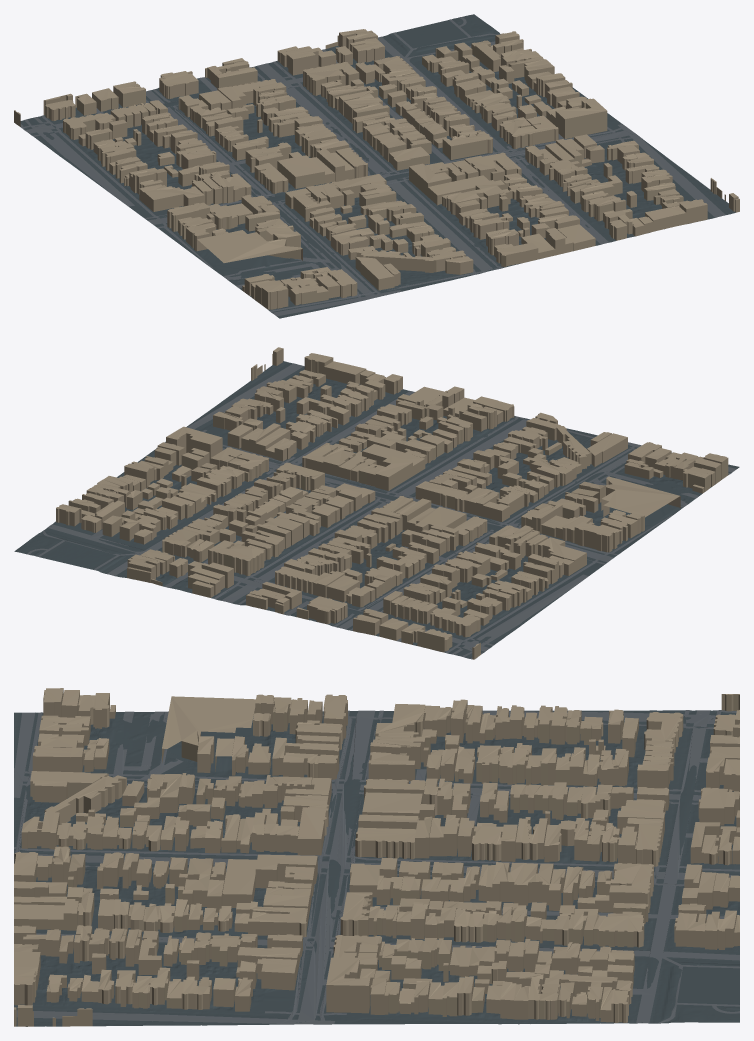
File: epsg26910-1436-10881.lod0.glb
3 views of the same model, one above another, from view 1: azimuth 30°, elevation 25°; view 2: azimuth 150°, elevation 25°; view 3: azimuth 270°, elevation 25° (orthographic). The views are drawn at different scales.
Visible parts, largest first — view 1: epsg26910-1436-10881-lod0; view 2: epsg26910-1436-10881-lod0; view 3: epsg26910-1436-10881-lod0.
Boxes of the visible parts, x1,y1,x2,y2 form: epsg26910-1436-10881-lod0: (14,14,739,318); epsg26910-1436-10881-lod0: (14,347,739,659); epsg26910-1436-10881-lod0: (14,688,739,1026).
Bounding box in the file's own units: 384 × 19.51 × 384.
